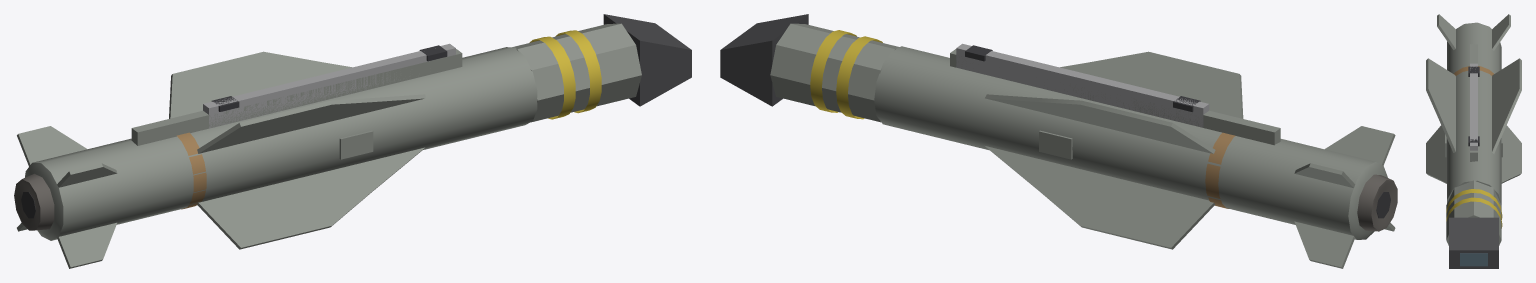
The model's file is agm_3.glb.
3 views of the same model, side by side, from view 1: azimuth 30°, elevation 25°; view 2: azimuth 150°, elevation 25°; view 3: azimuth 270°, elevation 25° (orthographic). The views are drawn at different scales.
Visible parts, largest first — view 1: agm_3; view 2: agm_3; view 3: agm_3.
Part boxes in pixels (box(x1,y1,x2,y2)): agm_3: box(14, 14, 691, 268); agm_3: box(720, 14, 1397, 268); agm_3: box(1426, 14, 1521, 268).
Size of the model in its own units: 0.9965 by 0.1867 by 0.1867.
